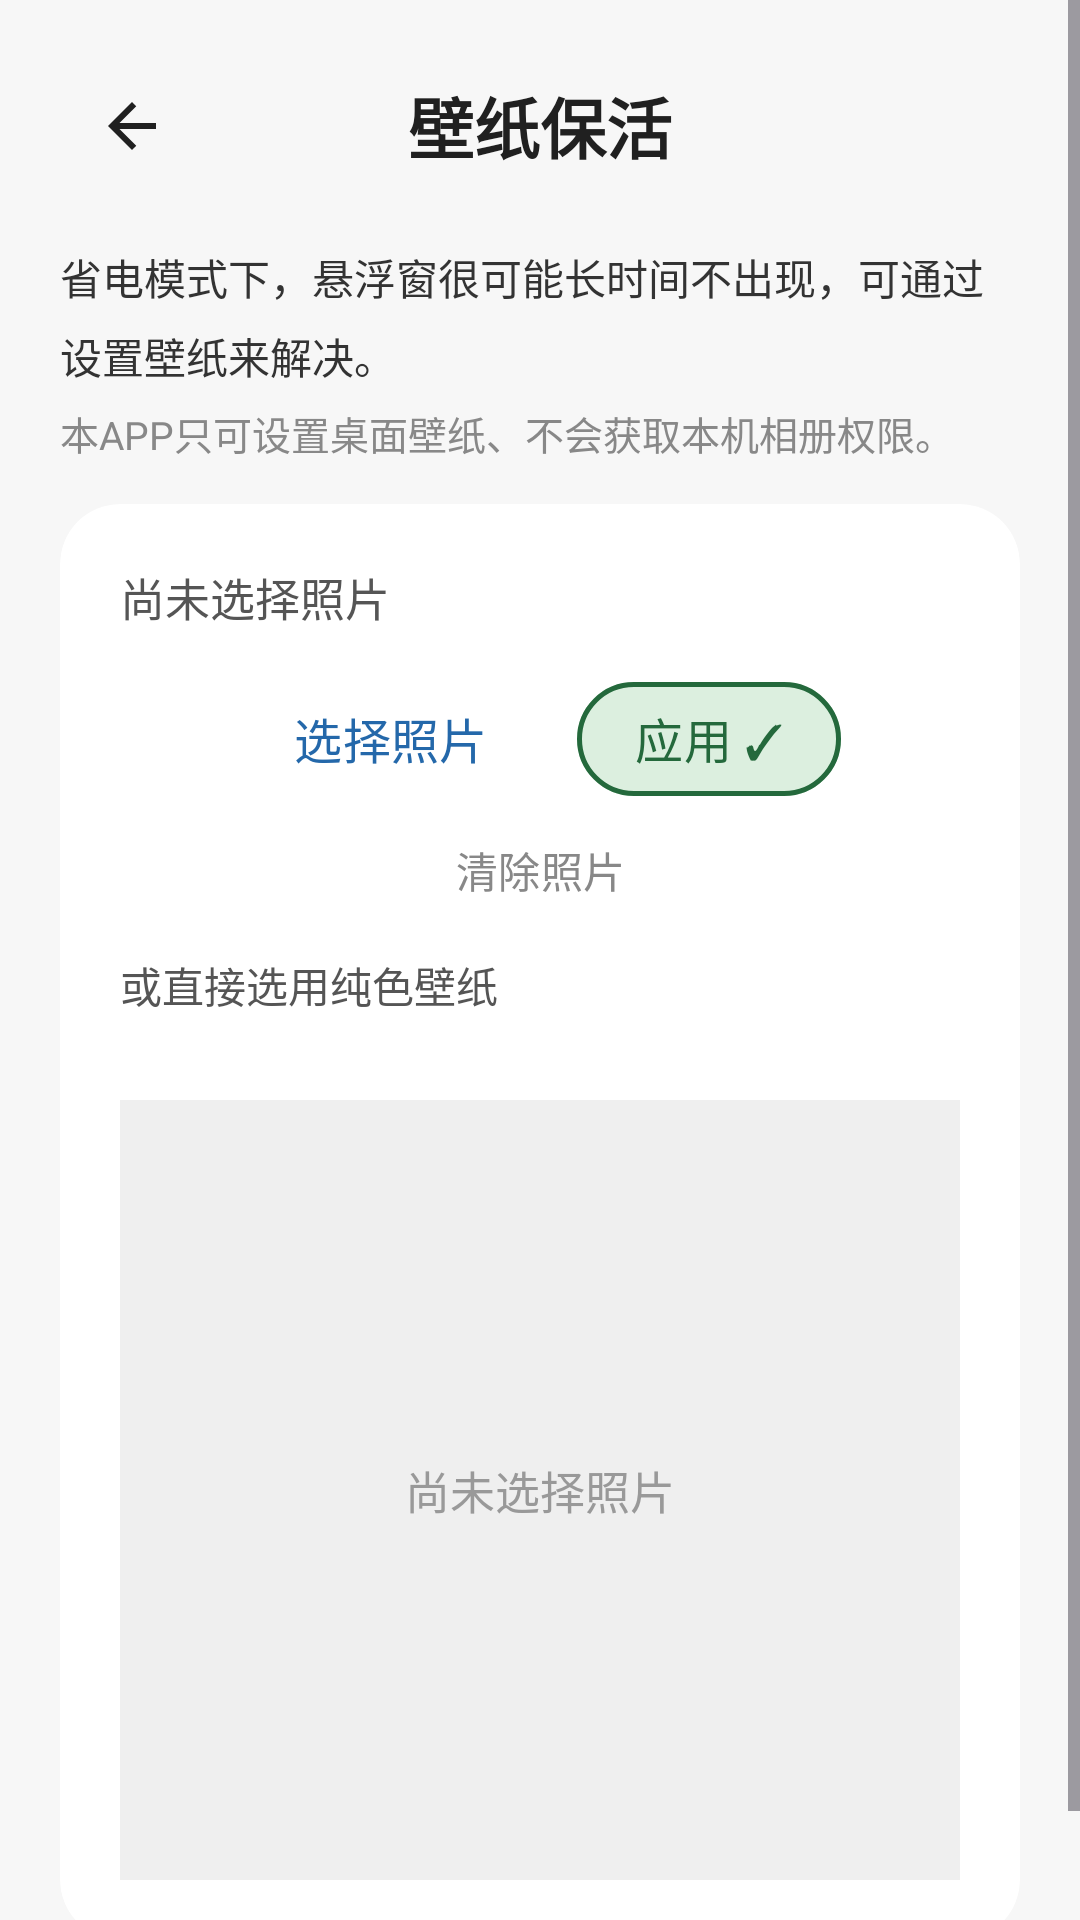

Icon click points for this 1080 × 1920 phone screenshot, format point (x, y):
返回: point (132, 126)
